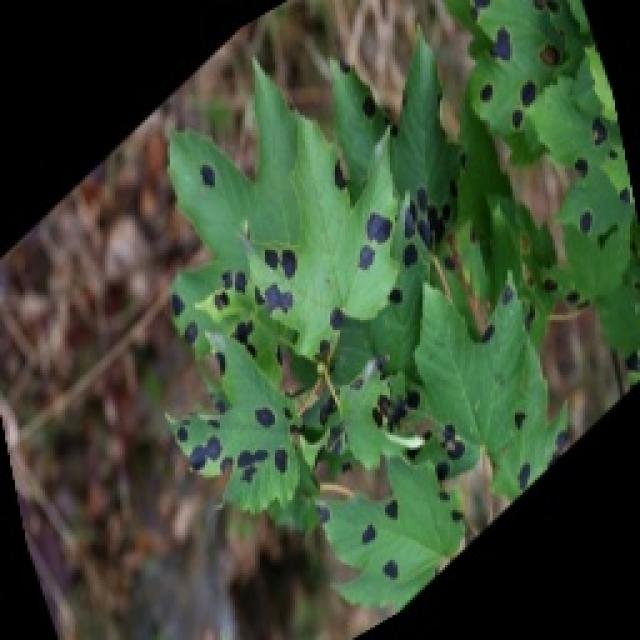Tar_Spot: (171, 240, 462, 525)
